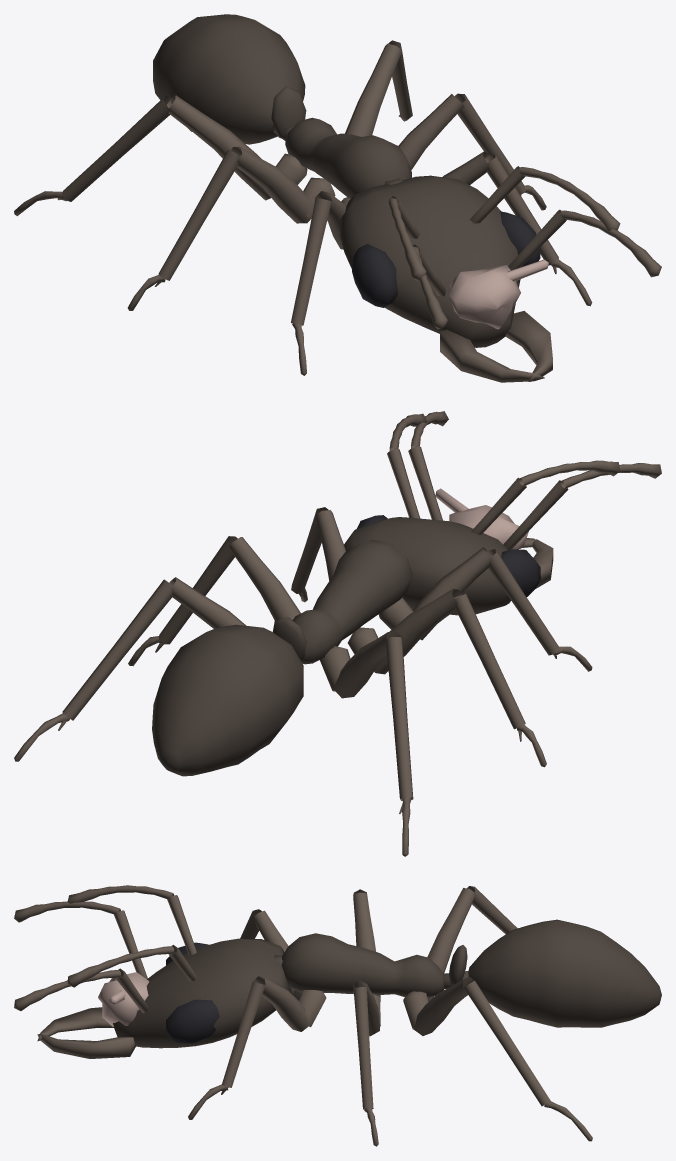
File: ants.glb
3 renders of one model, top to bottom at view 1: azimuth 30°, elevation 25°; view 2: azimuth 150°, elevation 25°; view 3: azimuth 270°, elevation 25°, orthographic. The views are drawn at different scales.
Parts seen in each view (by area): view 1: worker, soldier, load; view 2: worker, soldier, load; view 3: worker, soldier, load.
Part boxes in pixels (x1=…): worker: x1=14, y1=14, x2=620, y2=375; soldier: x1=340, y1=175, x2=661, y2=382; load: x1=449, y1=259, x2=548, y2=329; worker: x1=14, y1=413, x2=620, y2=856; soldier: x1=344, y1=411, x2=661, y2=615; load: x1=435, y1=488, x2=528, y2=549; worker: x1=67, y1=885, x2=661, y2=1146; soldier: x1=14, y1=901, x2=290, y2=1058; load: x1=98, y1=972, x2=149, y2=1026.
Bounding box in the file's own units: 1.01 × 0.3885 × 1.6.
